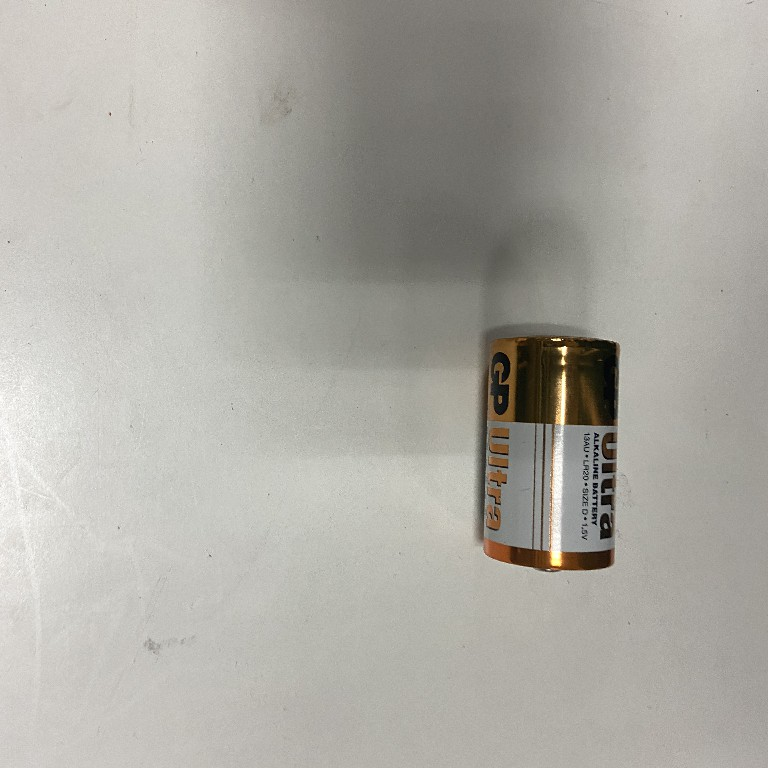charge: (475, 326, 621, 578)
